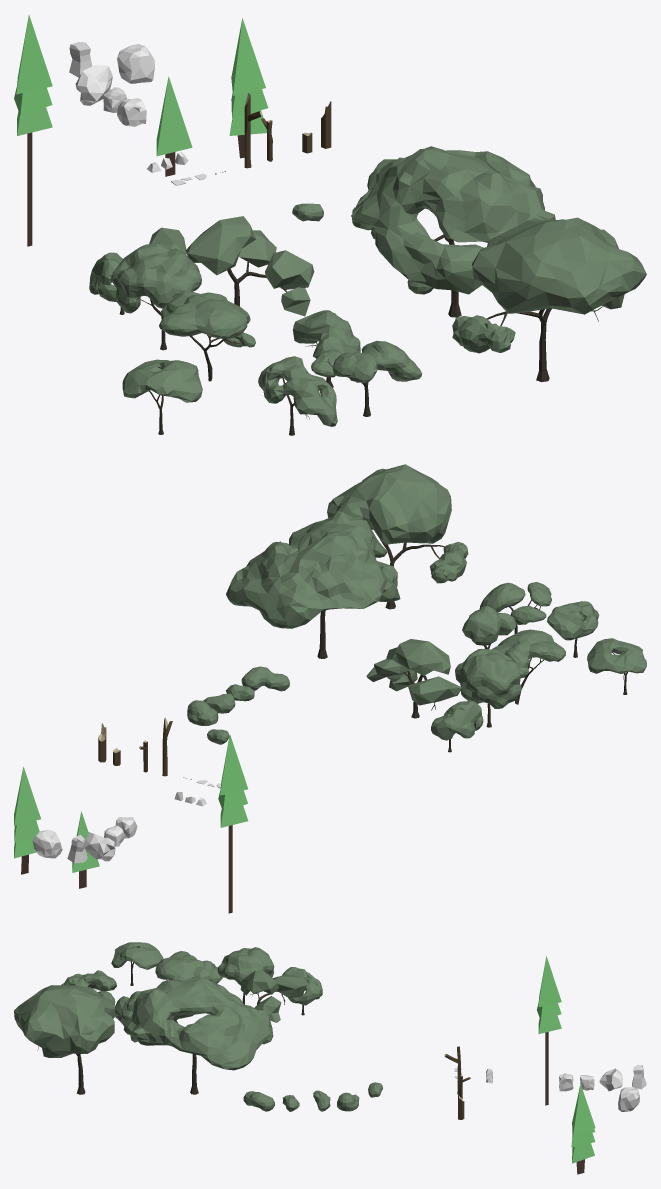
The model's file is Sample Set.fbx.
3 views of the same model, one above another, from view 1: azimuth 30°, elevation 25°; view 2: azimuth 150°, elevation 25°; view 3: azimuth 270°, elevation 25° (orthographic). The views are drawn at different scales.
Visible parts, largest first — view 1: Large Jungle Tree 2, Large Jungle Tree 3, Jungle Tree 6, Jungle Tree 9, Jungle Tree 8, Fir Tree 5, Jungle Tree 5, Jungle Tree 4, Jungle Tree 11, Fir Tree 6, Jungle Tree 3, Fir Tree 1 (+5 smaller); view 2: Large Jungle Tree 2, Large Jungle Tree 3, Jungle Tree 6, Jungle Tree 9, Fir Tree 5, Jungle Tree 8, Jungle Tree 4, Jungle Tree 11, Fir Tree 6, Jungle Tree 5, Jungle Tree 10, Jungle Tree 3 (+4 smaller); view 3: Large Jungle Tree 2, Large Jungle Tree 3, Jungle Tree 6, Fir Tree 5, Jungle Tree 8, Jungle Tree 9, Fir Tree 6, Jungle Tree 11, Jungle Tree 5, Jungle Tree 10, Jungle Tree 3, Rock 4 (+3 smaller).
Boxes of the visible parts, bbox=[...] form: Large Jungle Tree 2: bbox=[351, 146, 555, 317]; Large Jungle Tree 3: bbox=[452, 217, 646, 382]; Jungle Tree 6: bbox=[149, 216, 314, 316]; Jungle Tree 9: bbox=[111, 243, 201, 350]; Jungle Tree 8: bbox=[159, 290, 255, 381]; Fir Tree 5: bbox=[14, 15, 52, 246]; Jungle Tree 5: bbox=[258, 356, 337, 435]; Jungle Tree 4: bbox=[311, 340, 421, 416]; Jungle Tree 11: bbox=[122, 359, 202, 434]; Fir Tree 6: bbox=[229, 18, 268, 158]; Jungle Tree 3: bbox=[293, 310, 360, 387]; Fir Tree 1: bbox=[156, 76, 192, 176]; Large Jungle Tree 2: bbox=[226, 511, 400, 658]; Large Jungle Tree 3: bbox=[327, 464, 468, 609]; Jungle Tree 6: bbox=[366, 639, 462, 718]; Jungle Tree 9: bbox=[455, 648, 521, 727]; Fir Tree 5: bbox=[218, 734, 248, 913]; Jungle Tree 8: bbox=[492, 629, 565, 704]; Jungle Tree 4: bbox=[479, 582, 551, 633]; Jungle Tree 11: bbox=[587, 638, 646, 694]; Fir Tree 6: bbox=[14, 766, 40, 874]; Jungle Tree 5: bbox=[547, 601, 599, 657]; Jungle Tree 10: bbox=[431, 700, 483, 752]; Jungle Tree 3: bbox=[462, 605, 516, 649]; Large Jungle Tree 2: bbox=[123, 976, 273, 1094]; Large Jungle Tree 3: bbox=[14, 985, 115, 1094]; Jungle Tree 6: bbox=[240, 970, 307, 1022]; Fir Tree 5: bbox=[537, 956, 561, 1105]; Jungle Tree 8: bbox=[155, 951, 222, 983]; Jungle Tree 9: bbox=[217, 947, 274, 1004]; Fir Tree 6: bbox=[571, 1084, 595, 1174]; Jungle Tree 11: bbox=[111, 942, 163, 985]; Jungle Tree 5: bbox=[61, 970, 116, 991]; Jungle Tree 10: bbox=[282, 967, 322, 1015]; Jungle Tree 3: bbox=[115, 991, 140, 1025]; Rock 4: bbox=[618, 1087, 639, 1111].
Bounding box in the file's own units: 10227 × 5293 × 18137.
